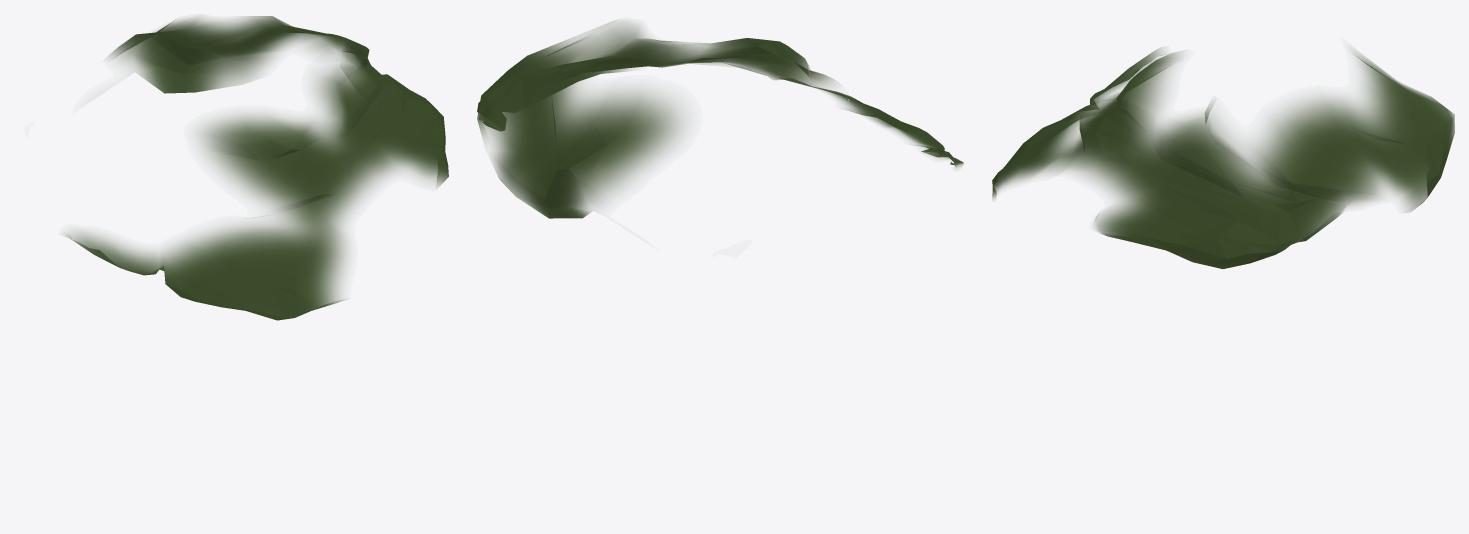
File: enchanted_SM_Env_Mushroom_02.gltf
3 renders of one model, left to right at view 1: azimuth 30°, elevation 25°; view 2: azimuth 150°, elevation 25°; view 3: azimuth 270°, elevation 25°, orthographic. The views are drawn at different scales.
Parts seen in each view (by area): view 1: SM_Env_Mushroom_02_LOD0; view 2: SM_Env_Mushroom_02_LOD0; view 3: SM_Env_Mushroom_02_LOD0.
Part boxes in pixels (x1,y1,x2,y2): SM_Env_Mushroom_02_LOD0: (64, 16, 448, 320); SM_Env_Mushroom_02_LOD0: (477, 20, 963, 218); SM_Env_Mushroom_02_LOD0: (992, 47, 1454, 268).
Size of what is drawn, in the model's own units: 6.24 by 6.4 by 5.85.
1 material, 1 textured.
